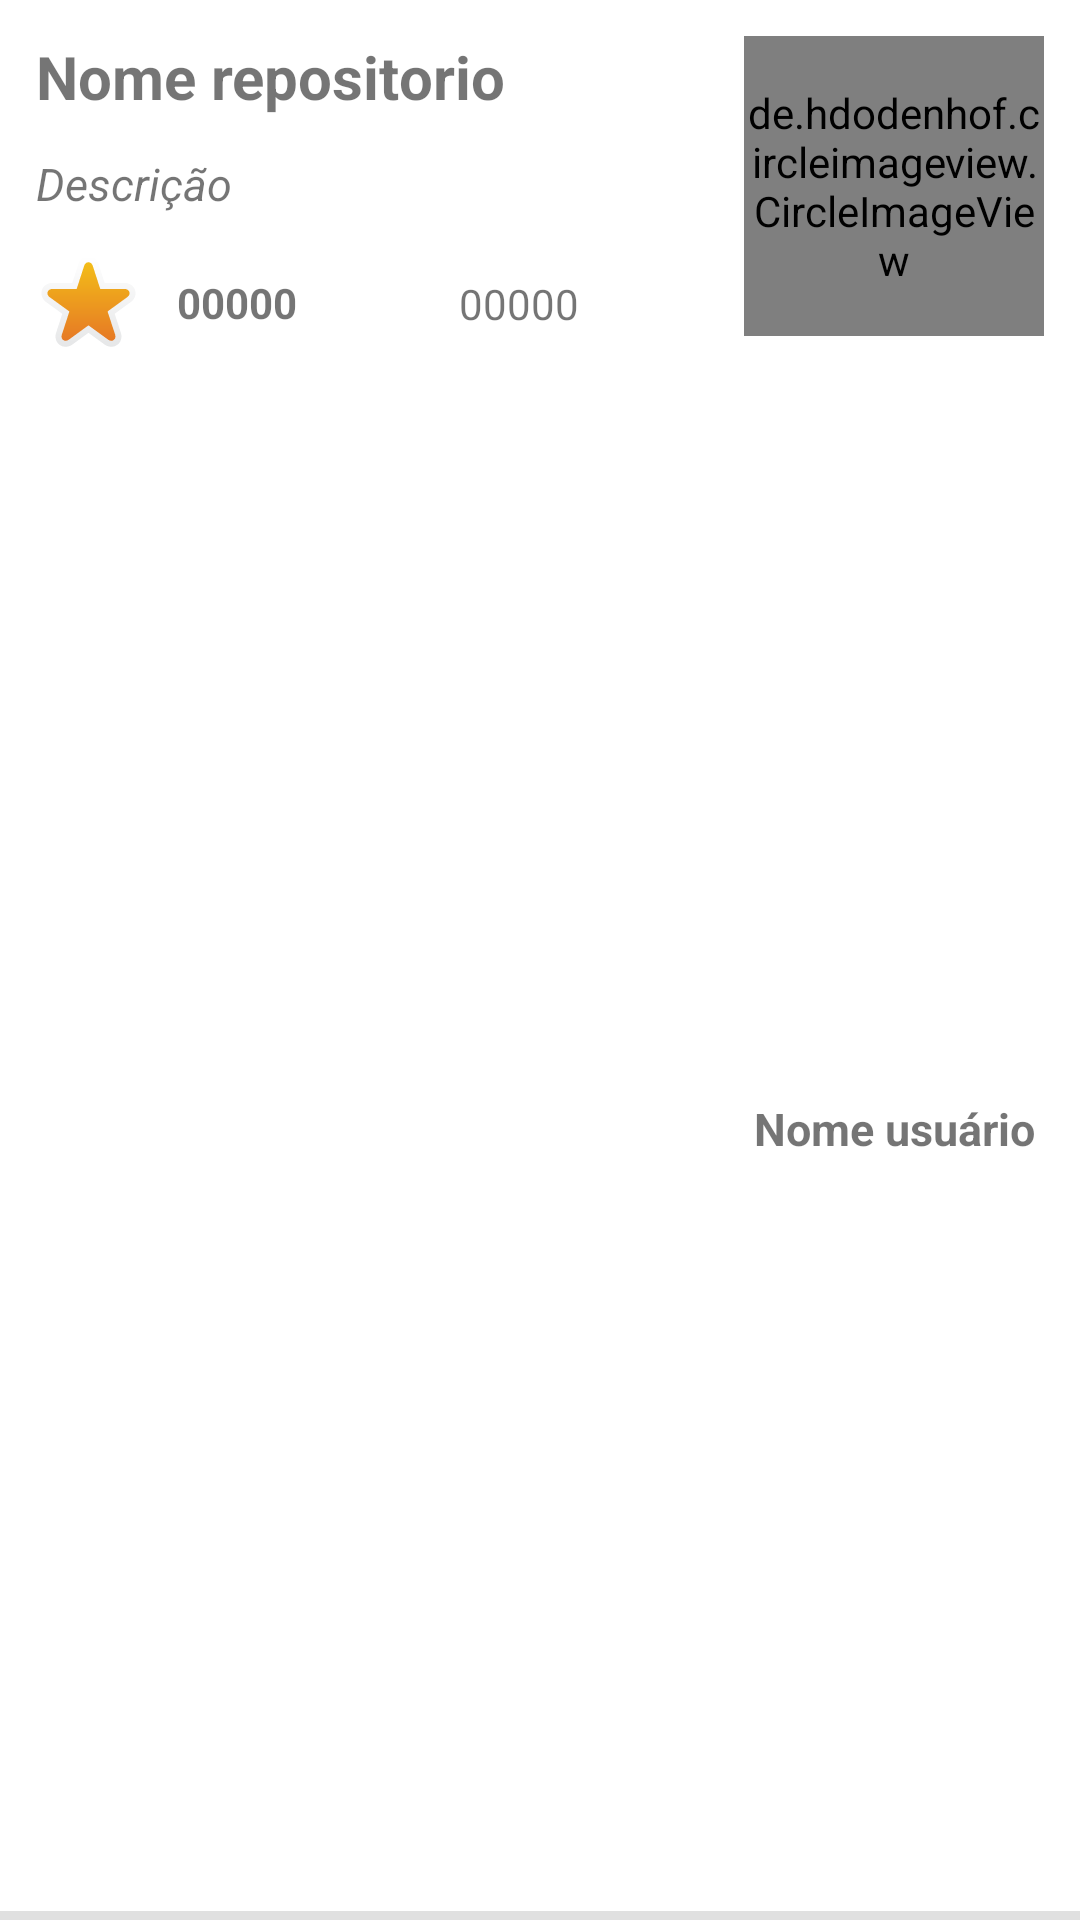

Screen size 1080x1920. Icon name, then its box in pixels as (left=x1, top=y1, right=x2, bottom=y2):
star: (left=47, top=262, right=130, bottom=346)
